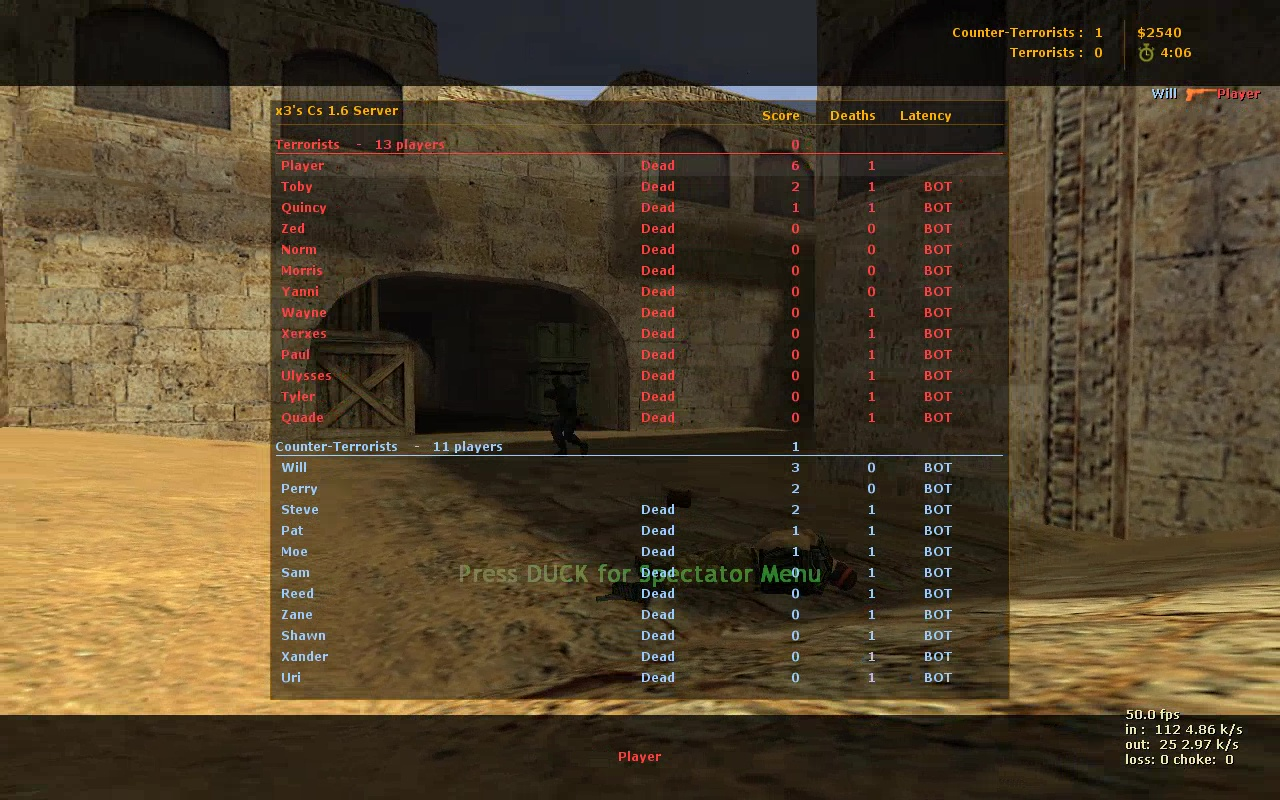ct: (543, 378, 588, 455)
dead: (613, 528, 858, 604)
